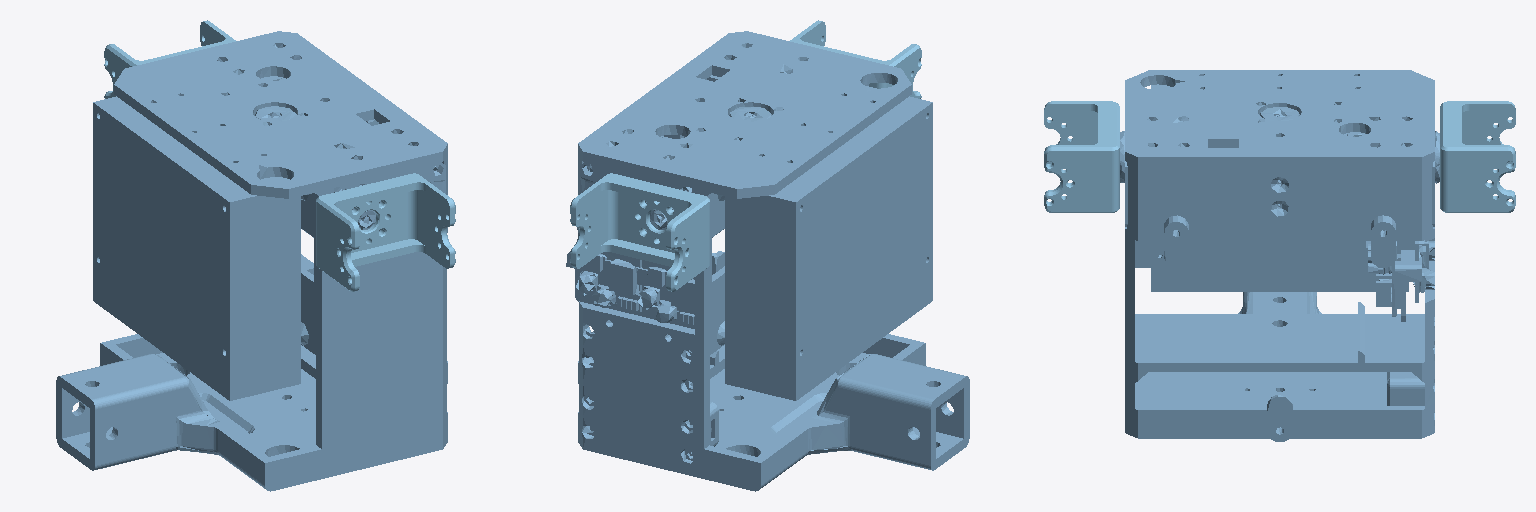
URDF robot description (toddlerbot_arms):
<?xml version="1.0" ?><robot name="toddlerbot_arms">  
  <link name="torso">    
    <visual>      
      <origin xyz="0 0 0" rpy="0 -0 0"/>      
      <geometry>        
        <mesh filename="package:///meshes/torso_visual.stl"/>        
      </geometry>      
      <material name="torso_material">        
        <color rgba="0.57568355636757850835 0.73346695530923944339 0.85632171014496005768 1.0"/>        
      </material>      
    </visual>    
    <collision>      
      <origin xyz="0 0 0" rpy="0 -0 0"/>      
      <geometry>        
        <mesh filename="package:///meshes/torso_collision.stl"/>        
      </geometry>      
    </collision>    
    <inertial>      
      <origin xyz="-0.009112547361055770706 0.003604904945319456315 0.074699753823106354589" rpy="0 0 0"/>      
      <mass value="0.60023307803583569875"/>      
      <inertia ixx="0.0016765069535889785303" ixy="-3.7938097719290492563e-05" ixz="-8.3104173875696863154e-05" iyy="0.0013166750851799557606" iyz="5.6366295515428055016e-05" izz="0.0012679724848085589892"/>      
    </inertial>    
  </link>  

  <link name="left_arm_hand">    
    <visual>      
      <origin xyz="0 0 0" rpy="0 -0 0"/>      
      <geometry>        
        <mesh filename="package:///meshes/left_arm_hand_visual.stl"/>        
      </geometry>      
      <material name="left_arm_hand_material">        
        <color rgba="0.61568627450980395466 0.81176470588235294379 0.92941176470588227065 1.0"/>        
      </material>      
    </visual>    
    <collision>      
      <origin xyz="0 0 0" rpy="0 -0 0"/>      
      <geometry>        
        <mesh filename="package:///meshes/left_arm_hand_collision.stl"/>        
      </geometry>      
    </collision>    
    <inertial>      
      <origin xyz="5.8254247911017766764e-11 -5.1264642561120809887e-05 0.008244078812709491888" rpy="0 0 0"/>      
      <mass value="0.0085999999999999948014"/>      
      <inertia ixx="1.2272887040545791873e-06" ixy="-2.1429944212823366832e-14" ixz="-8.5847198423308335344e-15" iyy="2.9107306060364607382e-06" iyz="7.4623841398182918573e-09" izz="3.0803135950773474987e-06"/>      
    </inertial>    
  </link>  

  <joint name="left_sho_pitch" type="revolute">    
    <origin xyz="-0.0030000000000002949654 0.062000000000001082023 0.10423651076281742478" rpy="-1.5707963267949081043 -4.0958527081001641839e-14 3.5234047634505718213e-14"/>    
    <parent link="torso"/>    
    <child link="left_arm_hand"/>    
    <axis xyz="0 0 1"/>    
    <limit effort="1" velocity="20" lower="-3.141592653589793116" upper="1.570796326794896558"/>    
    <joint_properties friction="0.0"/>    
  </joint>  

  <link name="right_arm_hand">    
    <visual>      
      <origin xyz="0 0 0" rpy="0 -0 0"/>      
      <geometry>        
        <mesh filename="package:///meshes/right_arm_hand_visual.stl"/>        
      </geometry>      
      <material name="right_arm_hand_material">        
        <color rgba="0.61568627450980395466 0.81176470588235294379 0.92941176470588227065 1.0"/>        
      </material>      
    </visual>    
    <collision>      
      <origin xyz="0 0 0" rpy="0 -0 0"/>      
      <geometry>        
        <mesh filename="package:///meshes/right_arm_hand_collision.stl"/>        
      </geometry>      
    </collision>    
    <inertial>      
      <origin xyz="5.8254247911017766764e-11 -5.1264642561120809887e-05 0.008244078812709491888" rpy="0 0 0"/>      
      <mass value="0.0085999999999999948014"/>      
      <inertia ixx="1.2272887040545791873e-06" ixy="-2.1429944212823366832e-14" ixz="-8.5847198423308335344e-15" iyy="2.9107306060364607382e-06" iyz="7.4623841398182918573e-09" izz="3.0803135950773474987e-06"/>      
    </inertial>    
  </link>  

  <joint name="right_sho_pitch" type="revolute">    
    <origin xyz="-0.0029999999999986998872 -0.06200000000000097794 0.10423651076281731376" rpy="-1.5707963267948885644 3.4812325502379109658e-14 -3.1415926535897562566"/>    
    <parent link="torso"/>    
    <child link="right_arm_hand"/>    
    <axis xyz="0 0 1"/>    
    <limit effort="1" velocity="20" lower="-1.570796326794896558" upper="3.141592653589793116"/>    
    <joint_properties friction="0.0"/>    
  </joint>  


</robot>

--- Facts derived from the render (not from the file) ---
3 views of the same robot in one strip: view 1: azimuth 30°, elevation 25°; view 2: azimuth 150°, elevation 25°; view 3: azimuth 270°, elevation 25° (orthographic).
Model toddlerbot_arms with 3 links and 2 joints (2 revolute), rooted at torso, posed every joint at zero.
Visible links, largest first — view 1: torso, right_arm_hand, left_arm_hand; view 2: torso, left_arm_hand, right_arm_hand; view 3: torso, left_arm_hand, right_arm_hand.
Link boxes in pixels (x1,y1,x2,y2): torso: [56, 31, 447, 491]; right_arm_hand: [316, 173, 455, 291]; left_arm_hand: [104, 20, 235, 98]; torso: [566, 31, 969, 491]; left_arm_hand: [570, 173, 709, 291]; right_arm_hand: [790, 20, 921, 98]; torso: [1120, 70, 1439, 441]; left_arm_hand: [1440, 101, 1515, 212]; right_arm_hand: [1044, 101, 1119, 212].
Bounding box of the posed robot: 0.131 × 0.182 × 0.1245 m (x, y, z).
Meshes: 3 distinct files referenced, 3 mesh visuals loaded (3 binary STL).